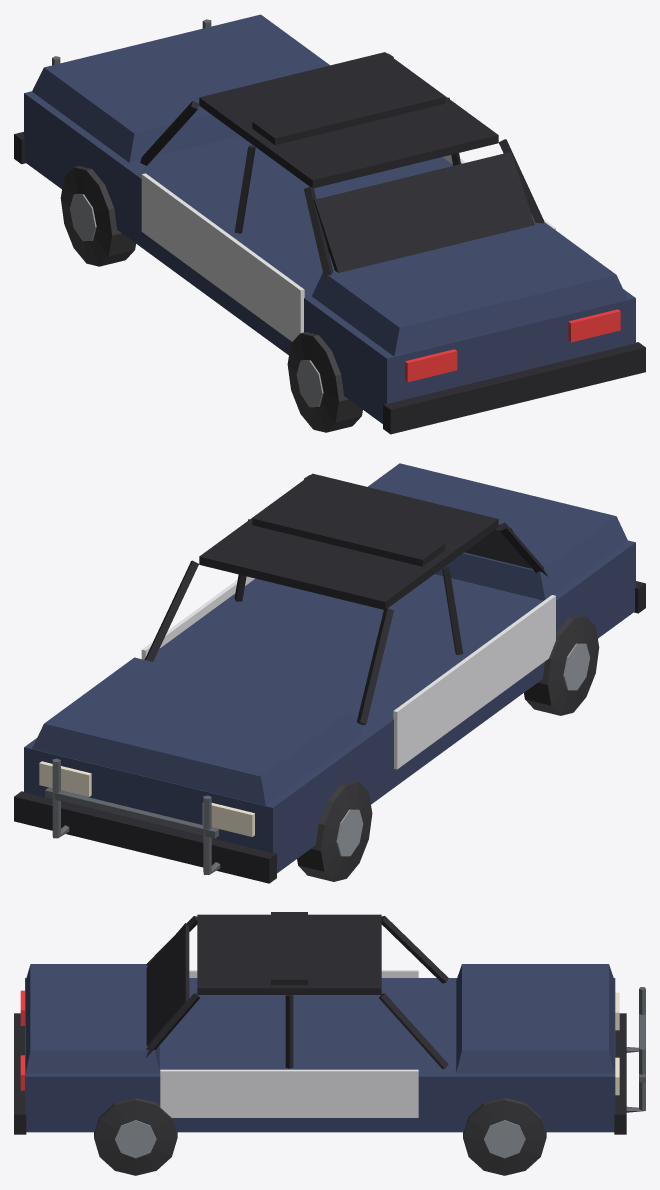
File: Cruiser.obj
The picture shows the model from 3 angles, top to bottom: view 1: azimuth 30°, elevation 25°; view 2: azimuth 150°, elevation 25°; view 3: azimuth 270°, elevation 25°; orthographic projection. The views are drawn at different scales.
Visible parts, largest first — view 1: Cruiser; view 2: Cruiser; view 3: Cruiser.
Part boxes in pixels (x1,y1,x2,y2): Cruiser: [14, 14, 645, 434]; Cruiser: [14, 463, 645, 883]; Cruiser: [14, 912, 645, 1175].
Bounding box in the file's own units: 2.05 × 1.6 × 5.14.
1 material, 1 textured.
